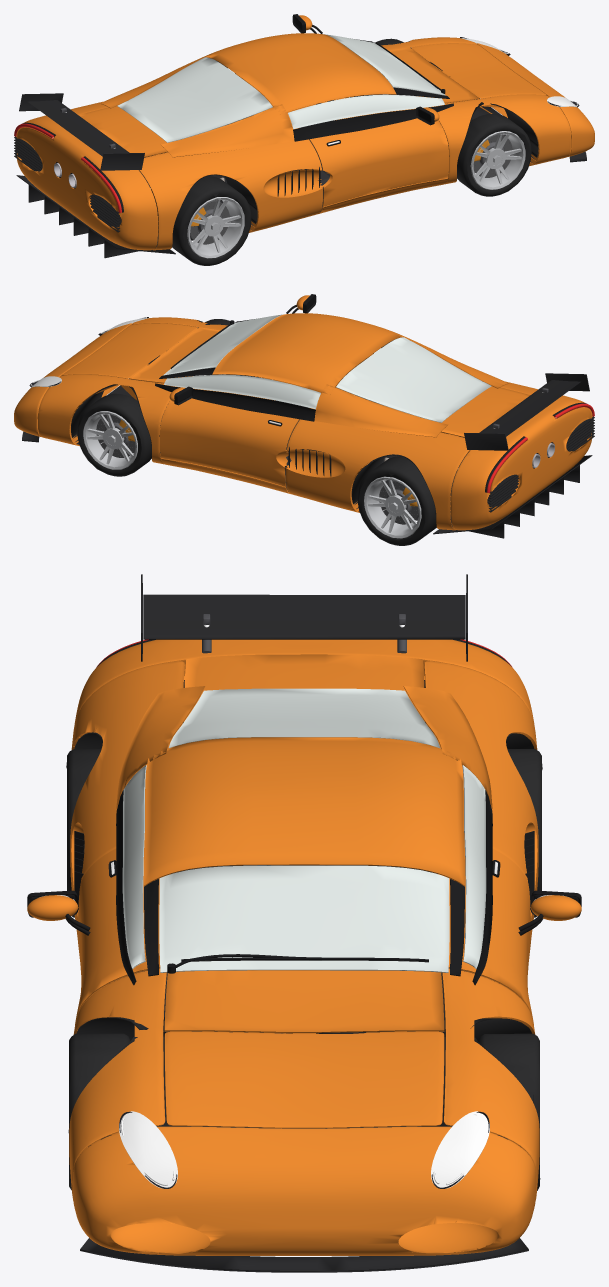
The model's file is Car1.fbx.
The picture shows the model from 3 angles, top to bottom: view 1: azimuth 30°, elevation 25°; view 2: azimuth 150°, elevation 25°; view 3: azimuth 270°, elevation 25°; orthographic projection. The views are drawn at different scales.
Parts seen in each view (by area): view 1: Body, Wheel_RR.001, Wheel_FR.001; view 2: Body, Wheel_RL.001, Wheel_FL.001; view 3: Body, Wheel_FR.001, Wheel_FL.001, Wheel_RR.001, Wheel_RL.001.
Part boxes in pixels (x1=…): Body: x1=14, y1=14, x2=594, y2=258; Wheel_RR.001: x1=172, y1=176, x2=251, y2=265; Wheel_FR.001: x1=457, y1=114, x2=531, y2=196; Body: x1=14, y1=294, x2=594, y2=538; Wheel_RL.001: x1=357, y1=456, x2=436, y2=545; Wheel_FL.001: x1=77, y1=393, x2=151, y2=476; Body: x1=27, y1=574, x2=581, y2=1272; Wheel_FR.001: x1=68, y1=1033, x2=130, y2=1189; Wheel_FL.001: x1=478, y1=1033, x2=540, y2=1190; Wheel_RR.001: x1=66, y1=749, x2=101, y2=917; Wheel_RL.001: x1=507, y1=749, x2=542, y2=917.
Bounding box in the file's own units: 4.66 × 1.2 × 2.27.
